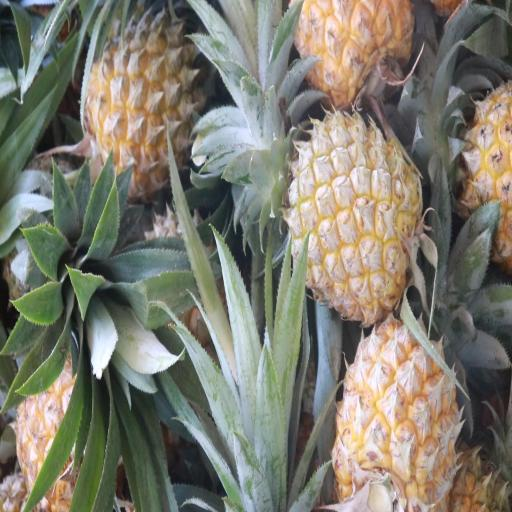------------------------------: (82, 5, 204, 190)
Pineapple - v8 v1: (287, 108, 419, 315), (332, 317, 458, 512), (428, 58, 512, 257)
